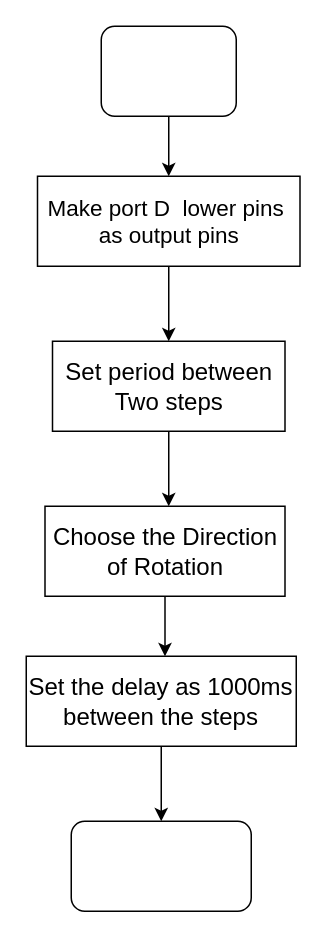
This 327x938 diagram has some shape labels left out. The shapes that lost their labels are listed below. From the top down, each one's centre as x and y in pixels, then its label:
(x=168, y=70): Start
(x=160, y=865): Stop
